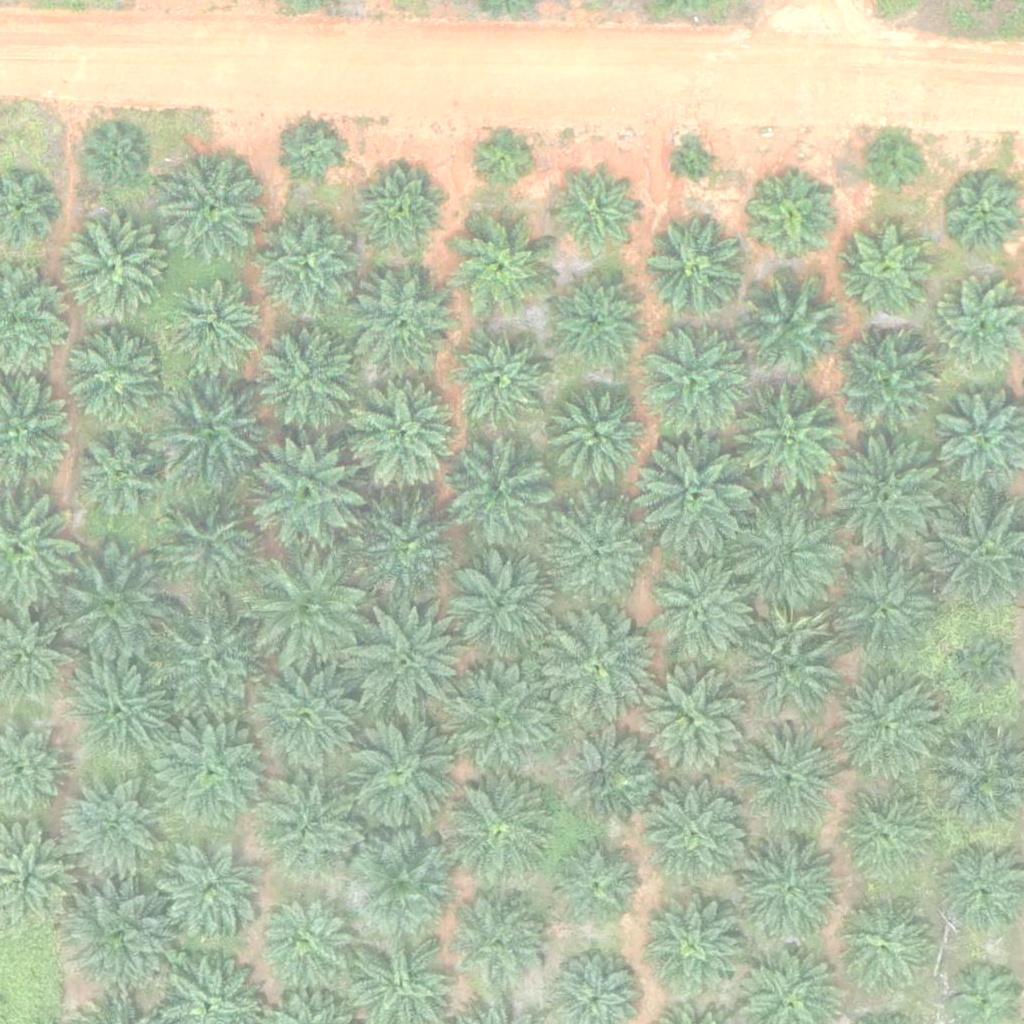Kelapa_Sawit: (51, 543, 176, 669), (147, 363, 272, 489), (146, 482, 271, 608), (146, 598, 271, 724), (247, 432, 372, 558), (245, 550, 370, 676), (342, 598, 467, 724), (630, 436, 755, 562), (723, 493, 848, 619), (819, 435, 944, 561), (338, 712, 463, 838), (245, 652, 370, 778), (148, 709, 273, 835), (343, 375, 468, 500), (533, 606, 658, 731), (440, 655, 565, 780), (440, 768, 565, 893), (733, 384, 846, 498), (833, 325, 946, 439), (66, 873, 179, 987), (825, 552, 938, 665), (830, 669, 943, 782), (738, 834, 851, 947), (153, 840, 265, 954), (639, 319, 751, 432), (642, 555, 754, 668), (732, 604, 844, 717), (829, 783, 941, 896), (734, 717, 846, 830), (64, 215, 164, 316), (63, 330, 163, 431), (166, 156, 266, 257), (160, 277, 260, 378), (257, 213, 357, 314), (257, 325, 357, 426), (352, 270, 452, 371), (360, 497, 460, 598), (454, 217, 554, 318), (449, 332, 549, 433), (450, 446, 550, 547), (454, 550, 554, 651), (546, 269, 646, 370), (548, 385, 648, 486), (545, 501, 645, 602), (642, 673, 742, 774), (835, 897, 935, 998), (646, 787, 746, 888), (640, 898, 740, 999), (554, 724, 654, 825), (451, 892, 551, 993), (354, 833, 454, 934), (263, 776, 363, 877), (70, 426, 170, 526), (646, 214, 746, 314), (741, 272, 841, 372), (69, 657, 169, 757), (60, 778, 160, 878), (551, 844, 639, 933), (551, 169, 639, 257), (844, 224, 932, 312), (363, 166, 450, 254), (750, 178, 837, 266), (264, 897, 351, 985), (84, 125, 147, 188), (954, 640, 1017, 703), (284, 123, 346, 186), (470, 124, 532, 187), (865, 136, 927, 199), (677, 144, 714, 182)
